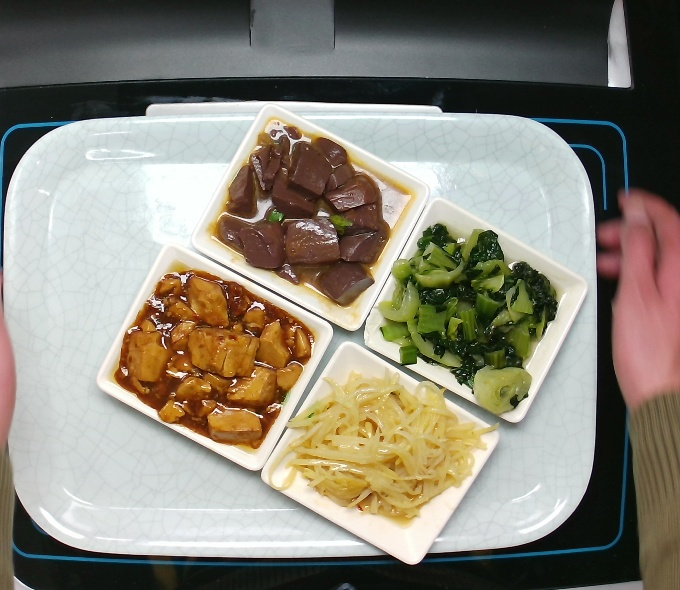wcq-MaPoDouFu: (115, 260, 310, 460)
wcq-NiuXue: (202, 105, 397, 305)
wcq-TuDouSi: (290, 342, 485, 542)
wcq-YouDongCai: (377, 219, 572, 419)
